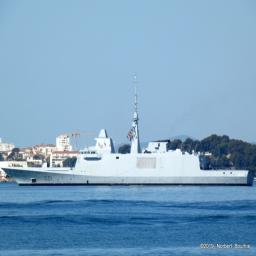Fragata: (2, 72, 255, 191)
